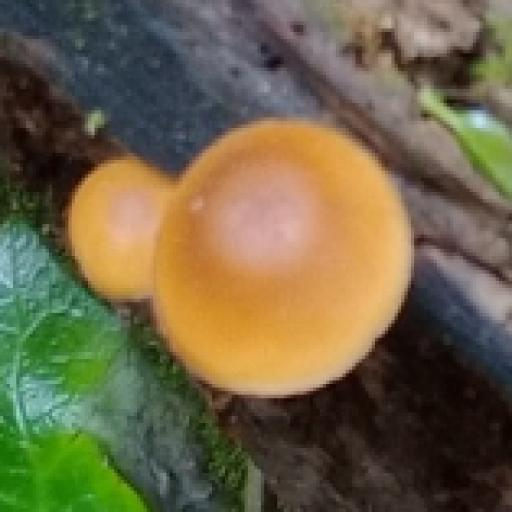mushroom: (51, 89, 448, 441)
